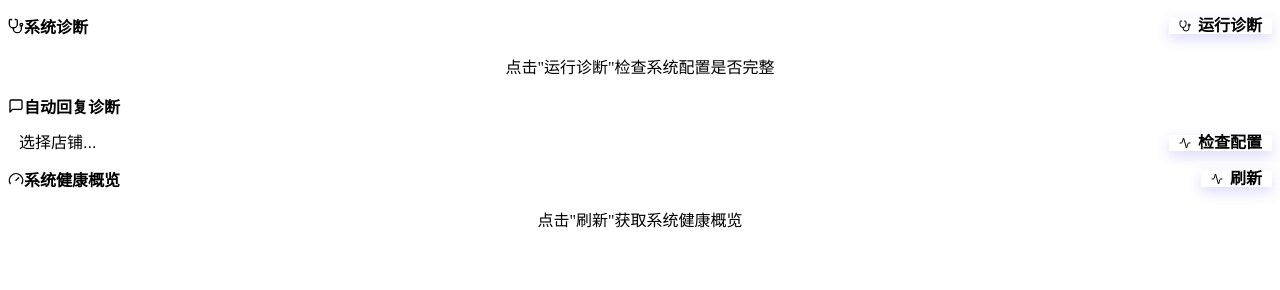
it: DiagnosticsPanel › shows error toast when checkAutoReply fails
Select "测试店铺A (pinduoduo)" in the dropdown at (588, 142), box [8,134,1169,151]
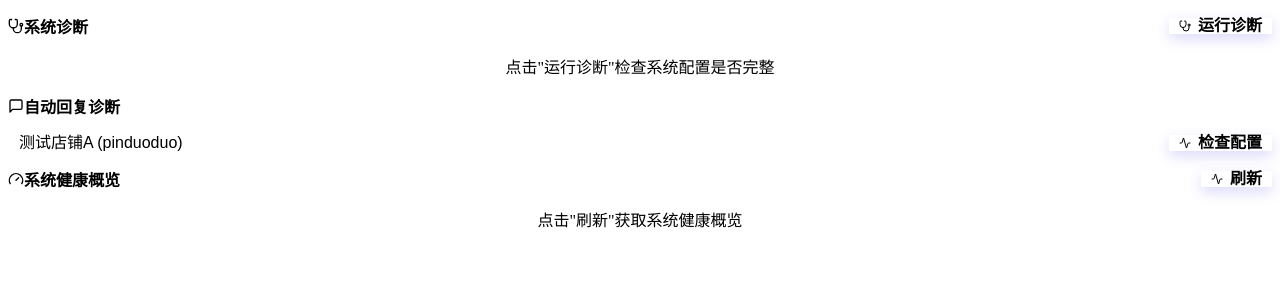
Click the button "检查配置" at (1220, 142), box [1169,134,1272,150]
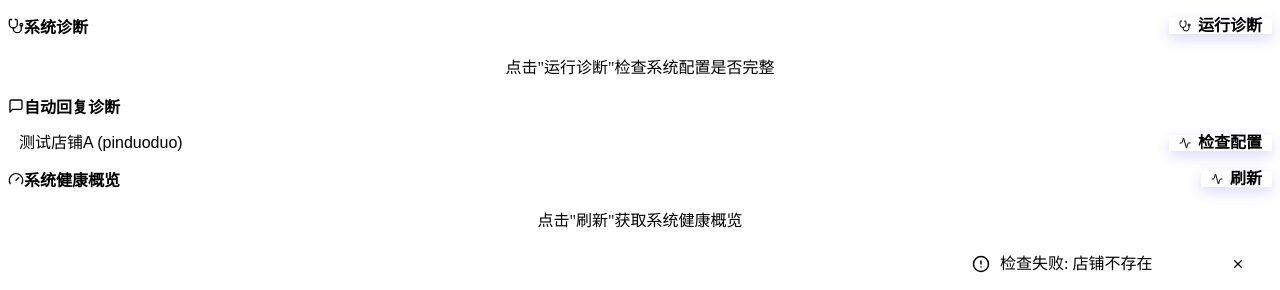
Expected: the text "检查失败: 店铺不存在" is shown, [1000,255,1152,272]
